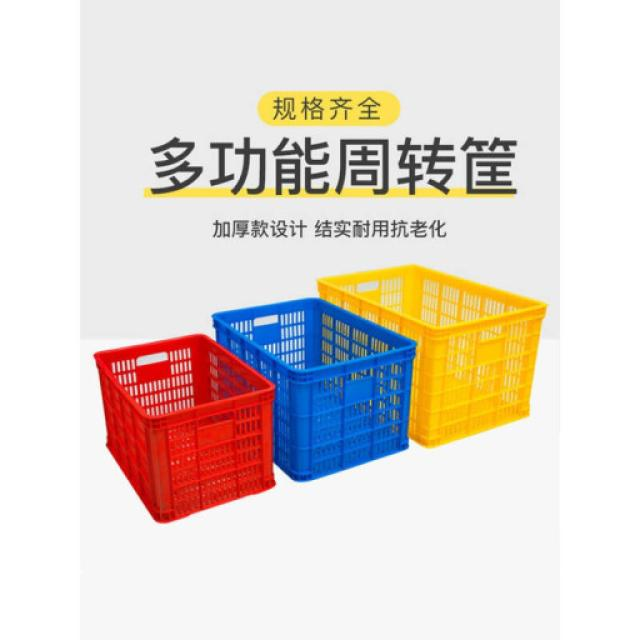basket: (210, 256, 448, 495), (295, 250, 550, 464), (91, 324, 294, 531)
